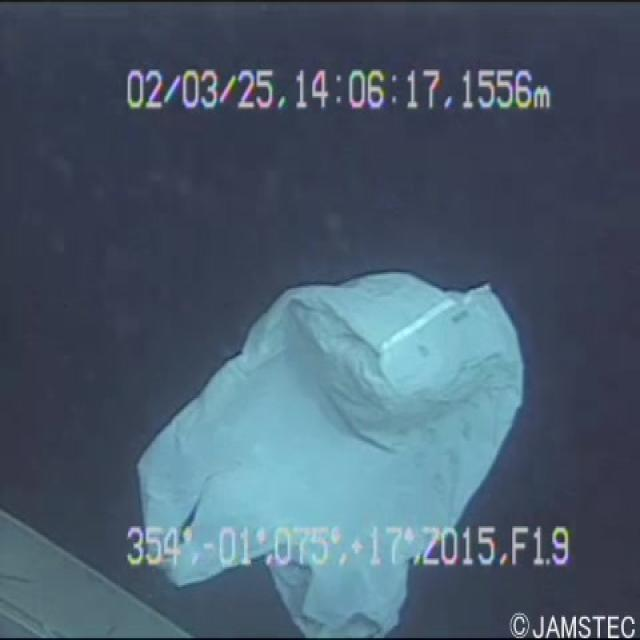plastic: (128, 206, 529, 638)
